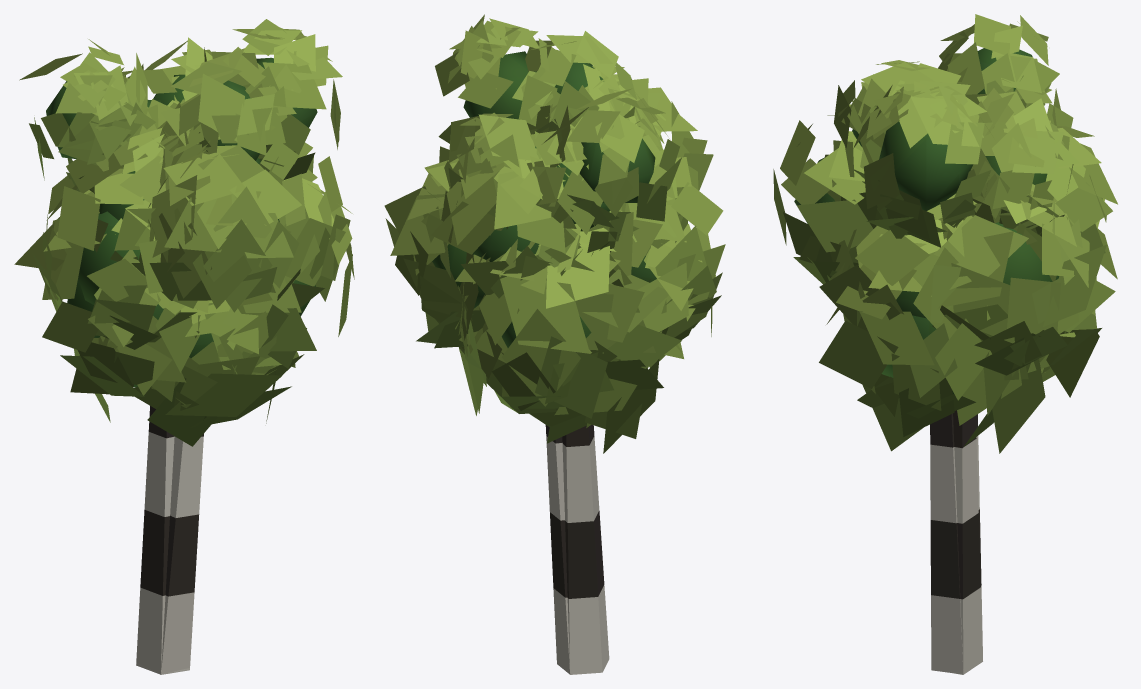
File: birch.glb
3 views of the same model, side by side, from view 1: azimuth 30°, elevation 25°; view 2: azimuth 150°, elevation 25°; view 3: azimuth 270°, elevation 25° (orthographic). The views are drawn at different scales.
Visible parts, largest first — view 1: birch-c, birch-b, birch-a; view 2: birch-b, birch-c, birch-a; view 3: birch-c, birch-a, birch-b.
Boxes of the visible parts, left/top/right/bottom form: birch-c: left=14, top=19, right=342, bottom=674; birch-b: left=19, top=39, right=354, bottom=674; birch-a: left=48, top=37, right=350, bottom=673; birch-b: left=425, top=64, right=725, bottom=674; birch-c: left=384, top=14, right=715, bottom=673; birch-a: left=427, top=31, right=687, bottom=674; birch-c: left=773, top=78, right=1106, bottom=674; birch-a: left=819, top=60, right=1117, bottom=674; birch-b: left=819, top=14, right=1117, bottom=673.
Size of the model in its own units: 0.8482 by 1.64 by 0.8523.
